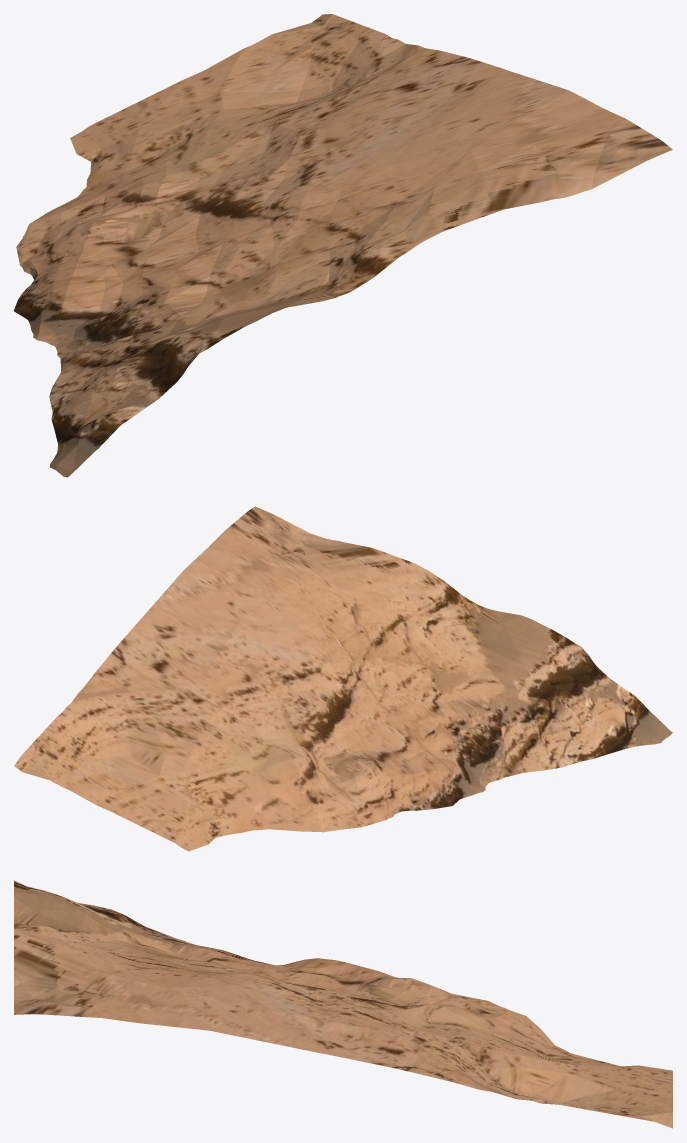
The picture shows the model from 3 angles, top to bottom: view 1: azimuth 30°, elevation 25°; view 2: azimuth 150°, elevation 25°; view 3: azimuth 270°, elevation 25°; orthographic projection. The views are drawn at different scales.
Size of the model in its own units: 1.04 by 0.3023 by 1.04.
Materials: 2 (2 with a texture image).
